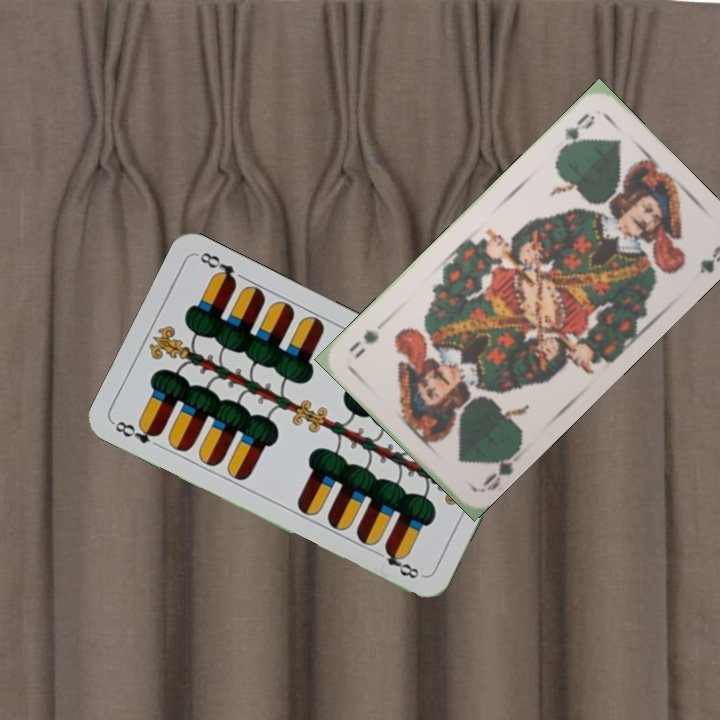E8: (109, 416, 164, 447)
GO: (478, 446, 522, 494), (554, 109, 598, 157)
